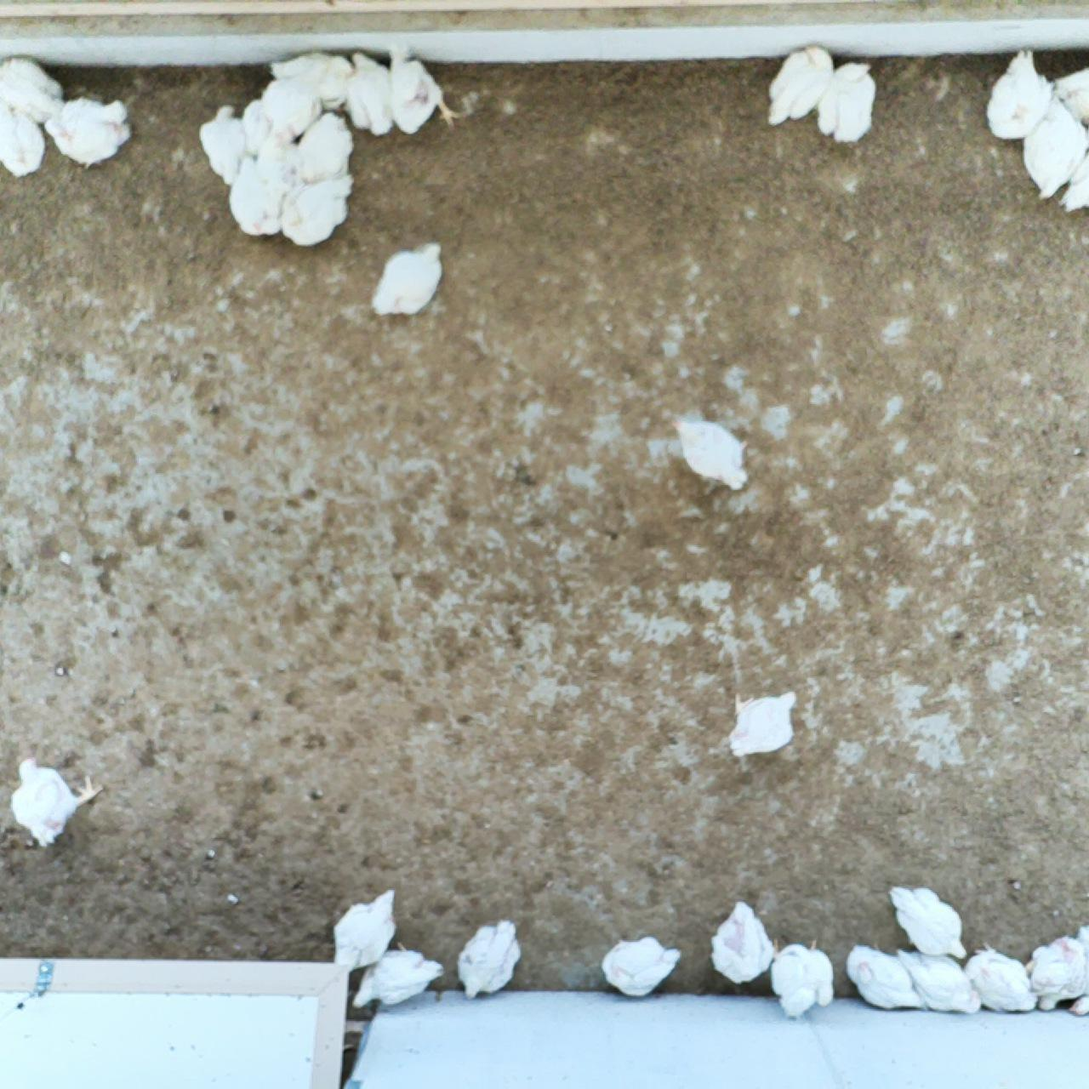chicken: (6, 751, 104, 850), (242, 57, 331, 156), (386, 39, 466, 137), (42, 91, 135, 173), (349, 937, 446, 1015), (888, 879, 972, 967), (984, 46, 1056, 144), (1022, 92, 1086, 202), (670, 412, 754, 495), (894, 945, 987, 1019), (765, 36, 836, 130), (366, 239, 449, 319), (327, 885, 400, 973), (768, 935, 841, 1021), (706, 897, 777, 985), (279, 169, 356, 248), (844, 940, 927, 1013), (961, 939, 1040, 1013), (453, 917, 524, 999), (599, 932, 684, 1000), (726, 687, 802, 763), (268, 47, 355, 113), (340, 45, 401, 139), (814, 61, 878, 146), (1026, 932, 1087, 1015), (225, 155, 285, 239), (0, 51, 67, 124), (293, 110, 358, 184), (199, 102, 248, 188), (0, 101, 50, 178), (256, 122, 301, 186), (1055, 61, 1089, 123)
